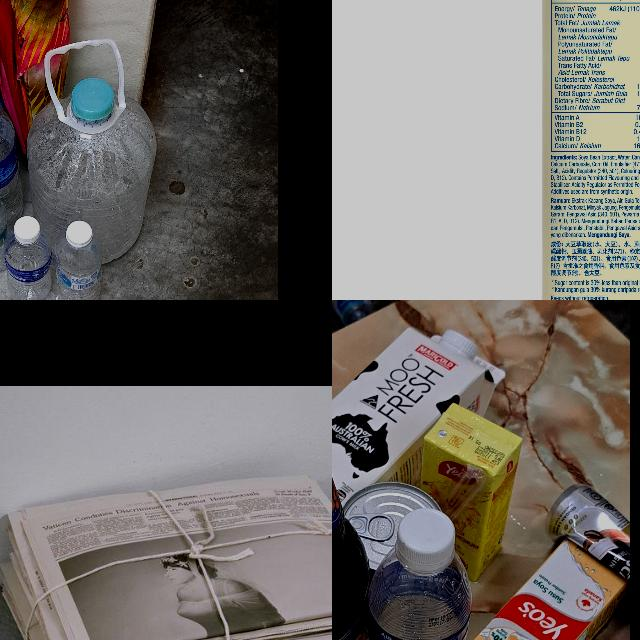aba de lata: (350, 511, 394, 541)
caixinha: (332, 325, 505, 507), (538, 0, 640, 300), (462, 535, 620, 640), (423, 396, 502, 576)
garrafa de vidro: (332, 407, 366, 640)
garrafa plástica: (30, 94, 150, 266), (371, 545, 465, 640), (0, 106, 29, 222), (51, 239, 103, 300), (8, 232, 54, 300), (0, 202, 20, 277), (332, 300, 373, 323)
lata: (550, 482, 630, 626), (342, 476, 448, 584)
papel: (0, 476, 332, 640)
tampa plástica: (394, 508, 456, 572), (70, 79, 116, 125), (440, 326, 480, 362), (13, 210, 45, 248), (66, 219, 94, 249)
